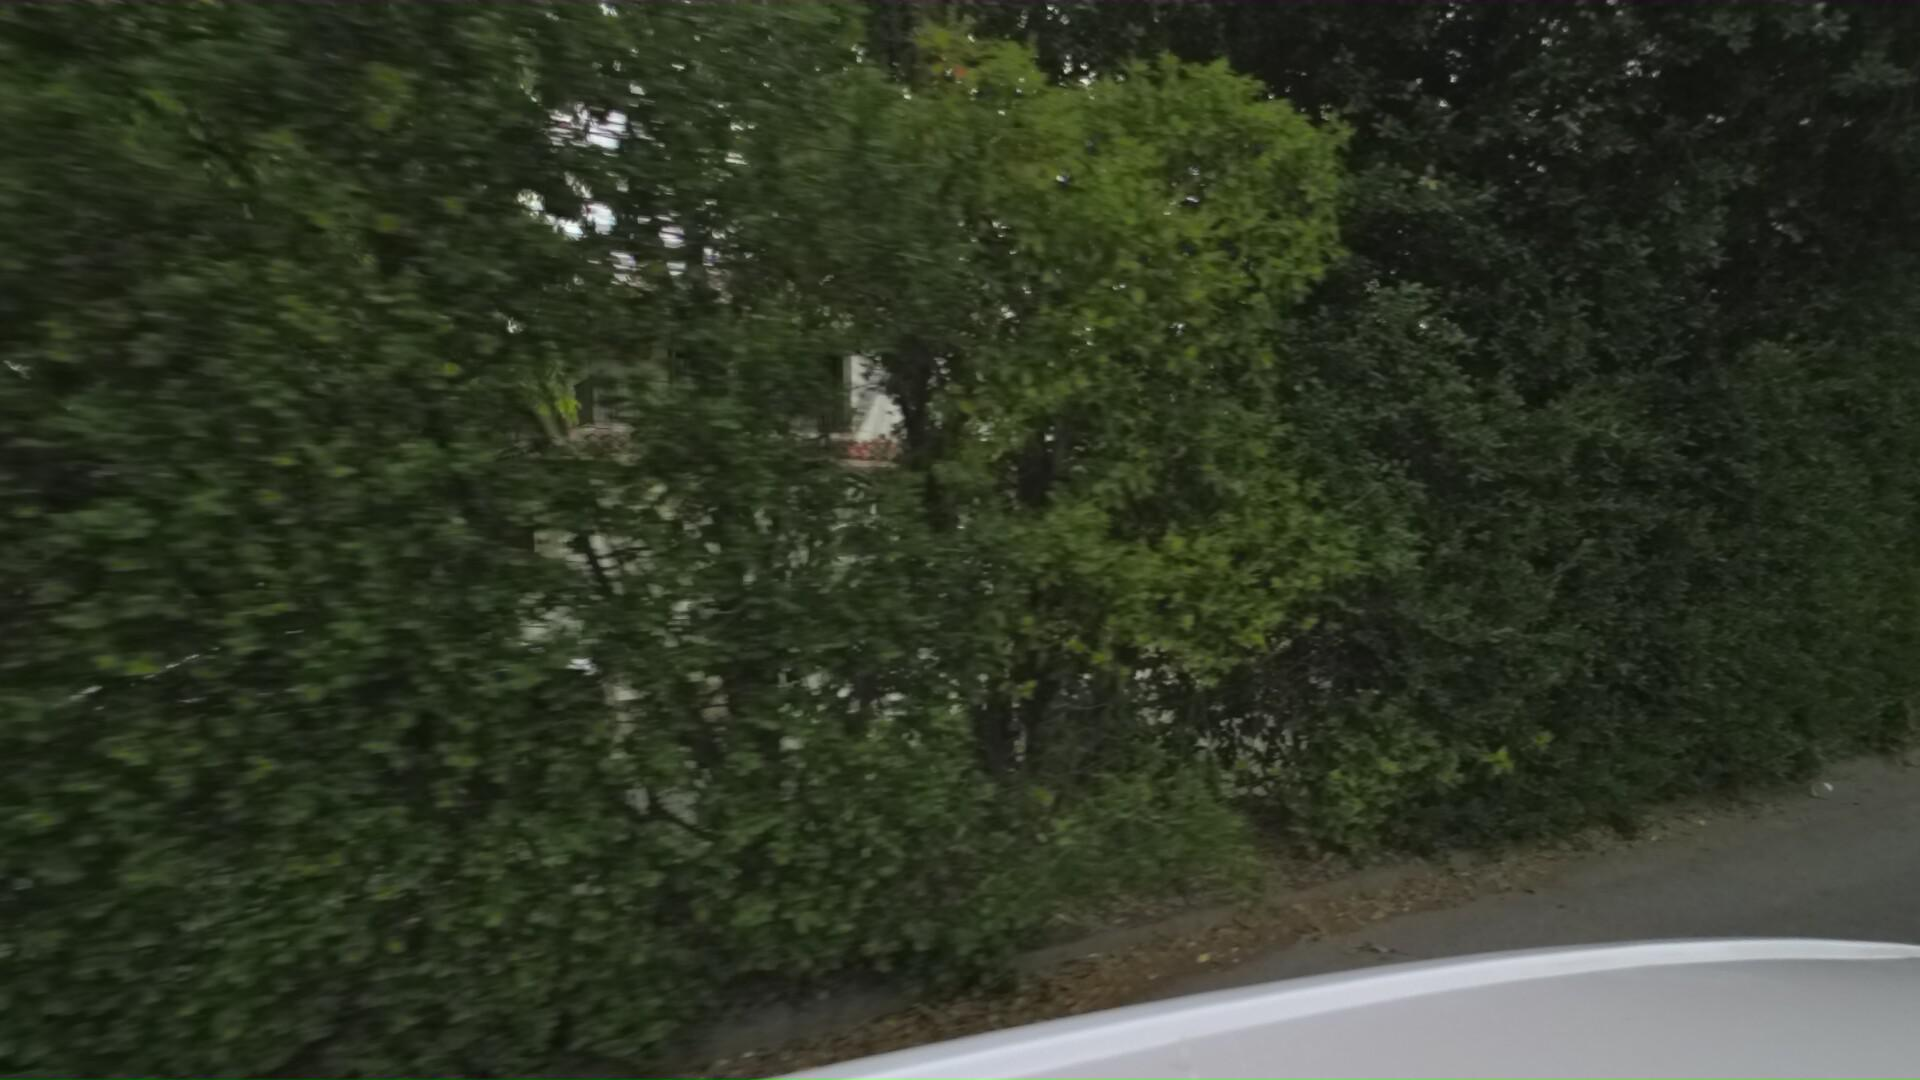car: (0, 578, 728, 978)
